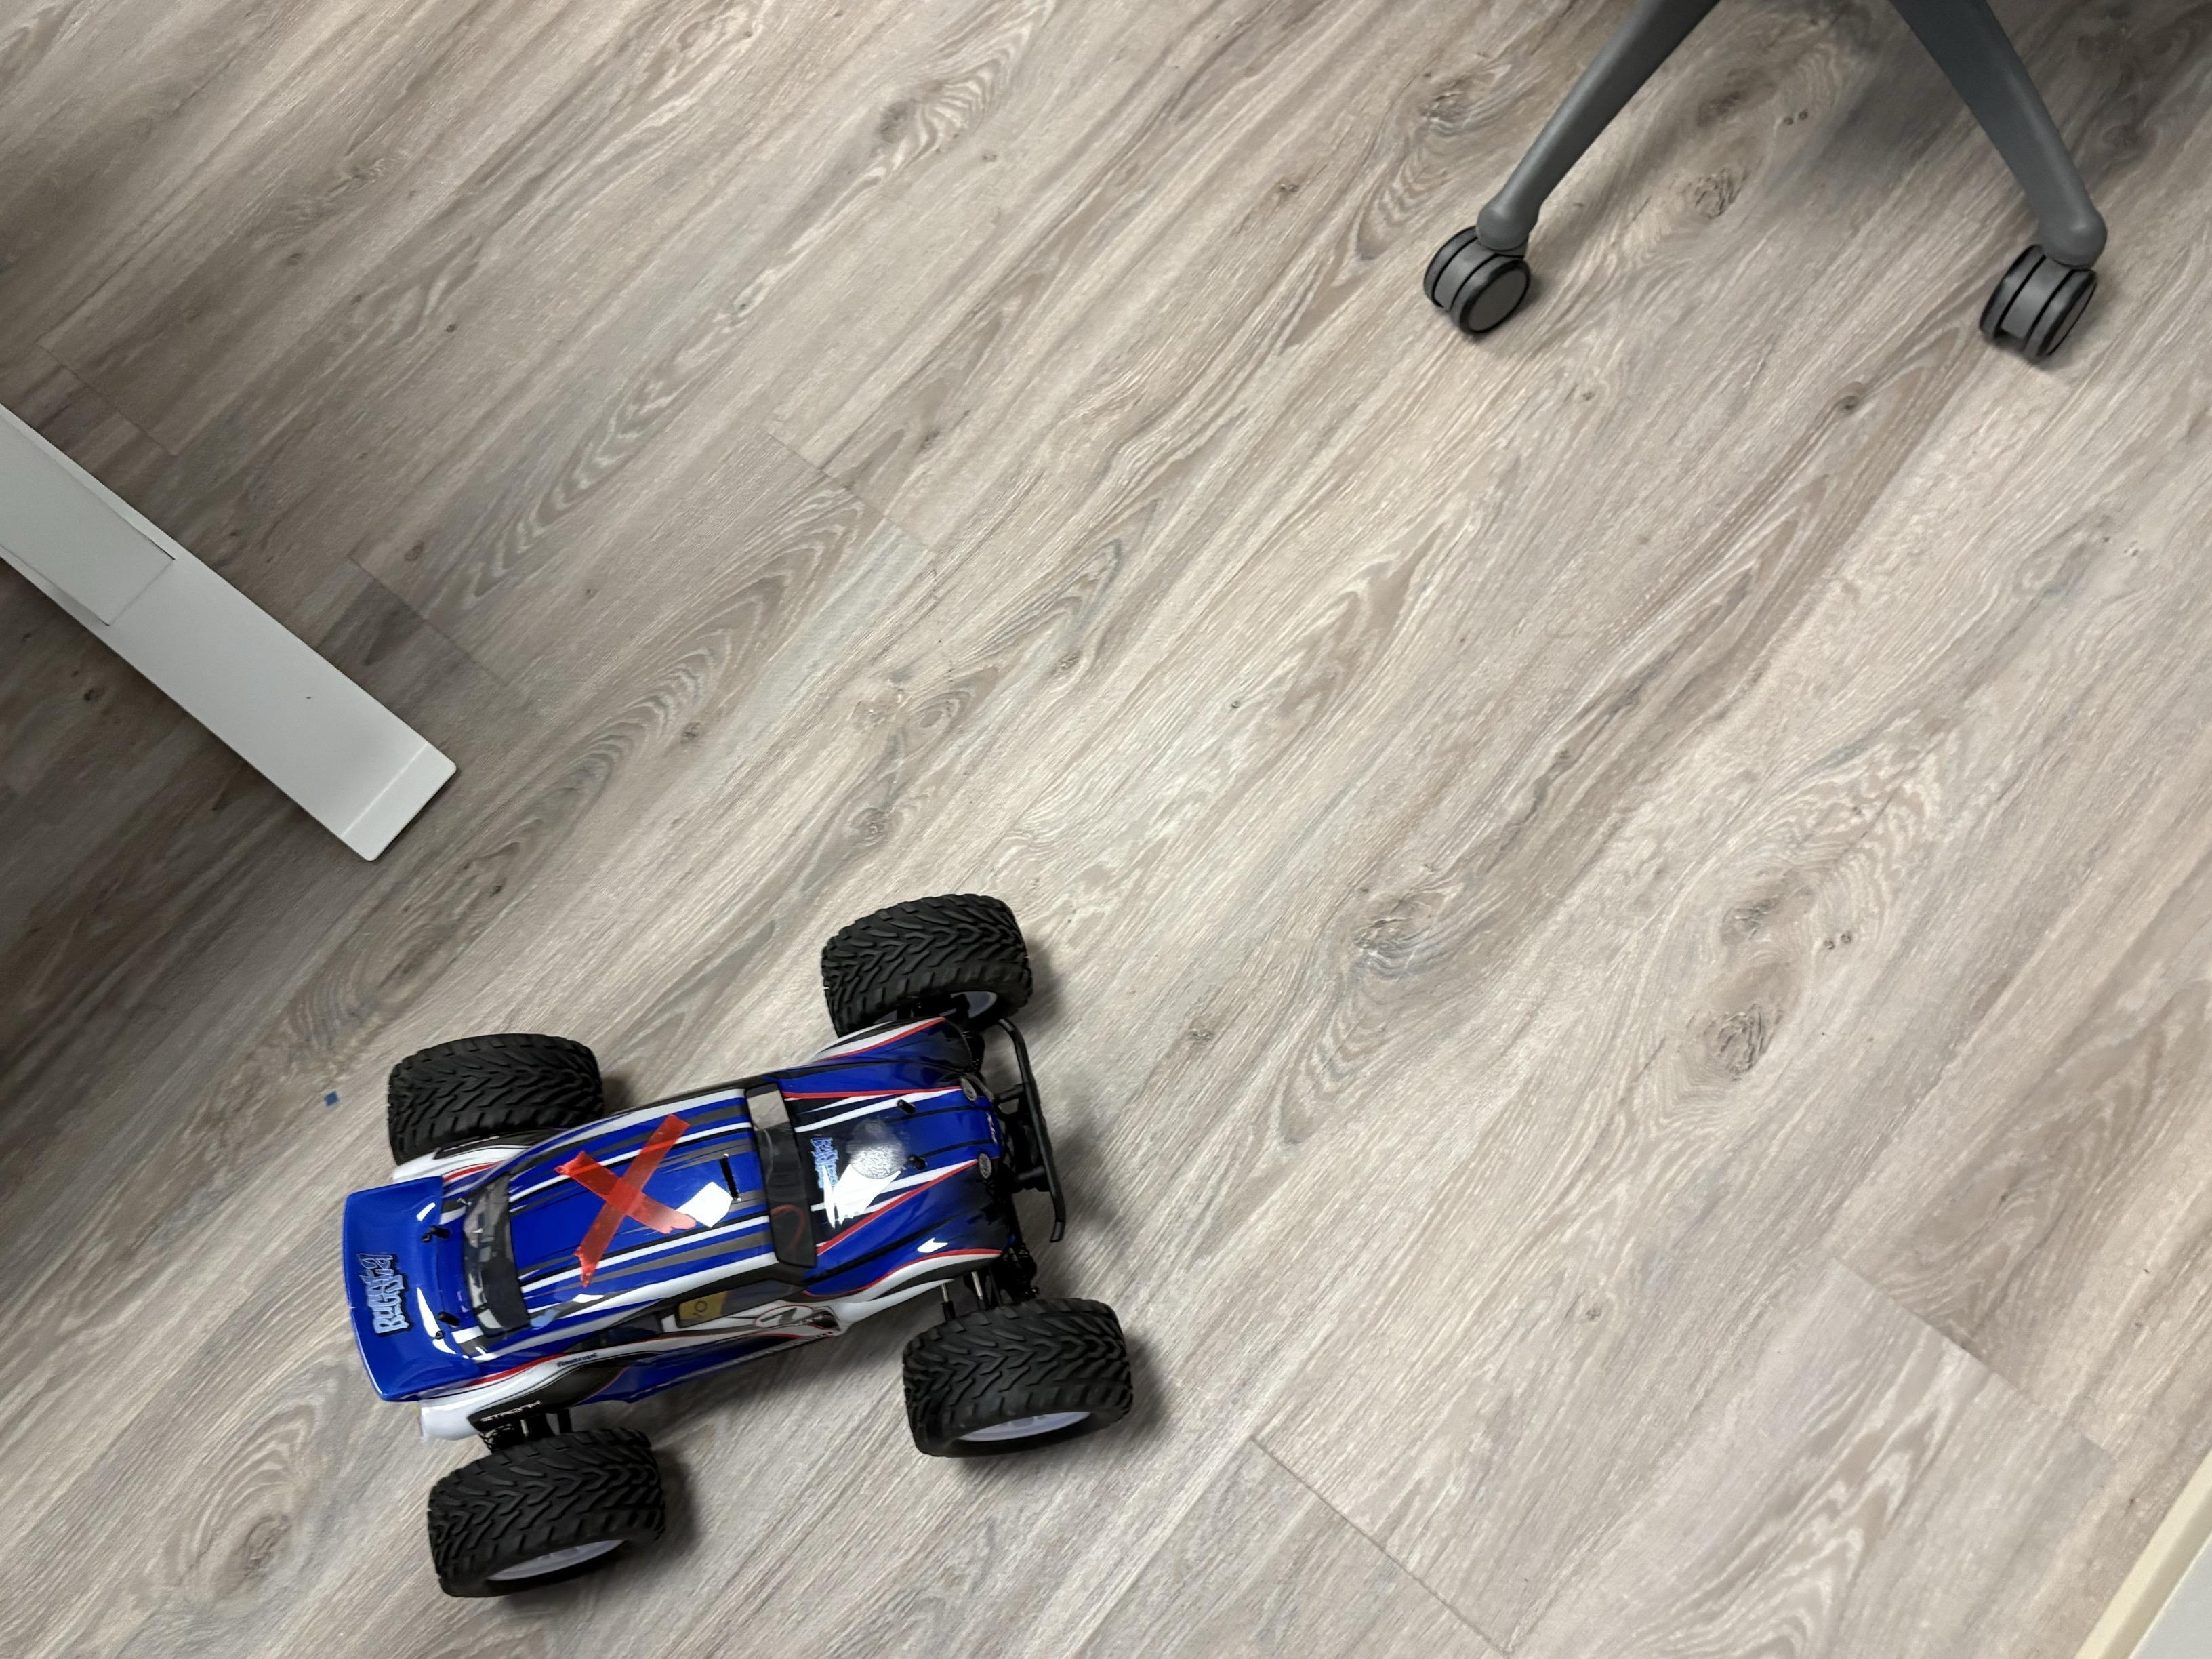Car: (298, 870, 1231, 1629)
